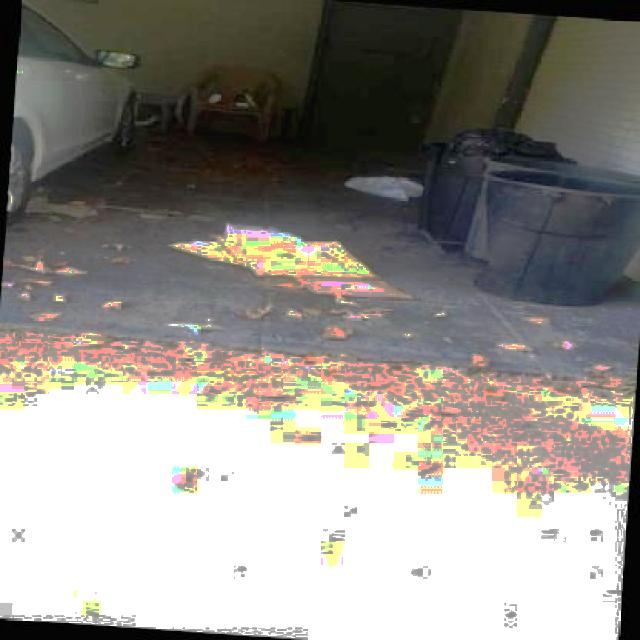Box: (216, 232, 381, 285), (293, 274, 413, 301), (168, 237, 248, 268), (224, 224, 307, 244)
